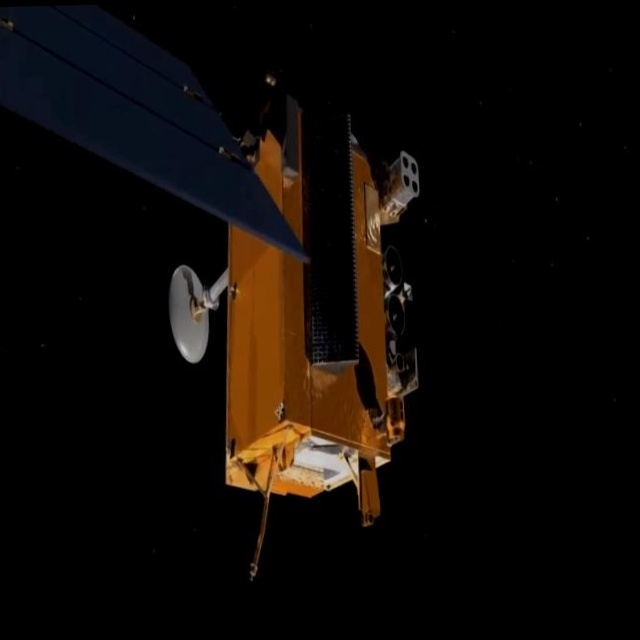medium_debris: (0, 0, 444, 640)
